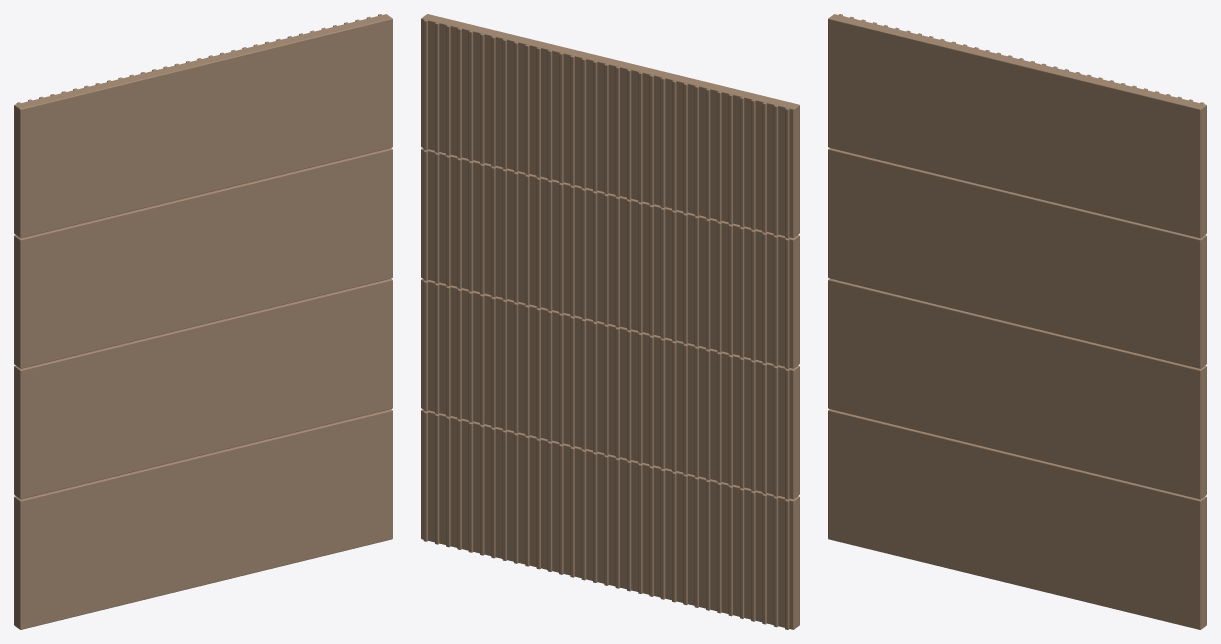
Rendered from DRAWERS_4_600x800.glb.
The picture shows the model from 3 angles, left to right: view 1: azimuth 30°, elevation 25°; view 2: azimuth 150°, elevation 25°; view 3: azimuth 330°, elevation 25°; orthographic projection.
Parts seen in each view (by area): view 1: front_panel_01, front_panel_03, front_panel_04, front_panel_02; view 2: front_panel_01, front_panel_03, front_panel_02, front_panel_04, front_panel_02_rib_029, front_panel_04_rib_012, front_panel_02_rib_012, front_panel_03_rib_002, front_panel_04_rib_029, front_panel_01_rib_002, front_panel_01_rib_019, front_panel_03_rib_019 (+124 smaller); view 3: front_panel_01, front_panel_03, front_panel_04, front_panel_02.
Part boxes in pixels (box(x1,y1,x2,y2)): front_panel_01: box(14, 14, 392, 238); front_panel_03: box(14, 278, 392, 499); front_panel_04: box(14, 409, 392, 629); front_panel_02: box(14, 148, 392, 368); front_panel_01: box(421, 14, 799, 237); front_panel_03: box(421, 278, 799, 499); front_panel_02: box(421, 148, 799, 368); front_panel_04: box(421, 409, 799, 629); front_panel_02_rib_029: box(468, 161, 473, 291); front_panel_04_rib_012: box(660, 469, 665, 599); front_panel_02_rib_012: box(660, 208, 665, 338); front_panel_03_rib_002: box(773, 366, 778, 496); front_panel_04_rib_029: box(468, 422, 473, 552); front_panel_01_rib_002: box(773, 105, 778, 235); front_panel_01_rib_019: box(581, 58, 586, 188); front_panel_03_rib_019: box(581, 319, 586, 449); front_panel_01: box(828, 14, 1206, 238); front_panel_03: box(828, 278, 1206, 499); front_panel_04: box(828, 409, 1206, 629); front_panel_02: box(828, 148, 1206, 368).
Bounding box in the file's own units: 0.596 × 0.796 × 0.022.
